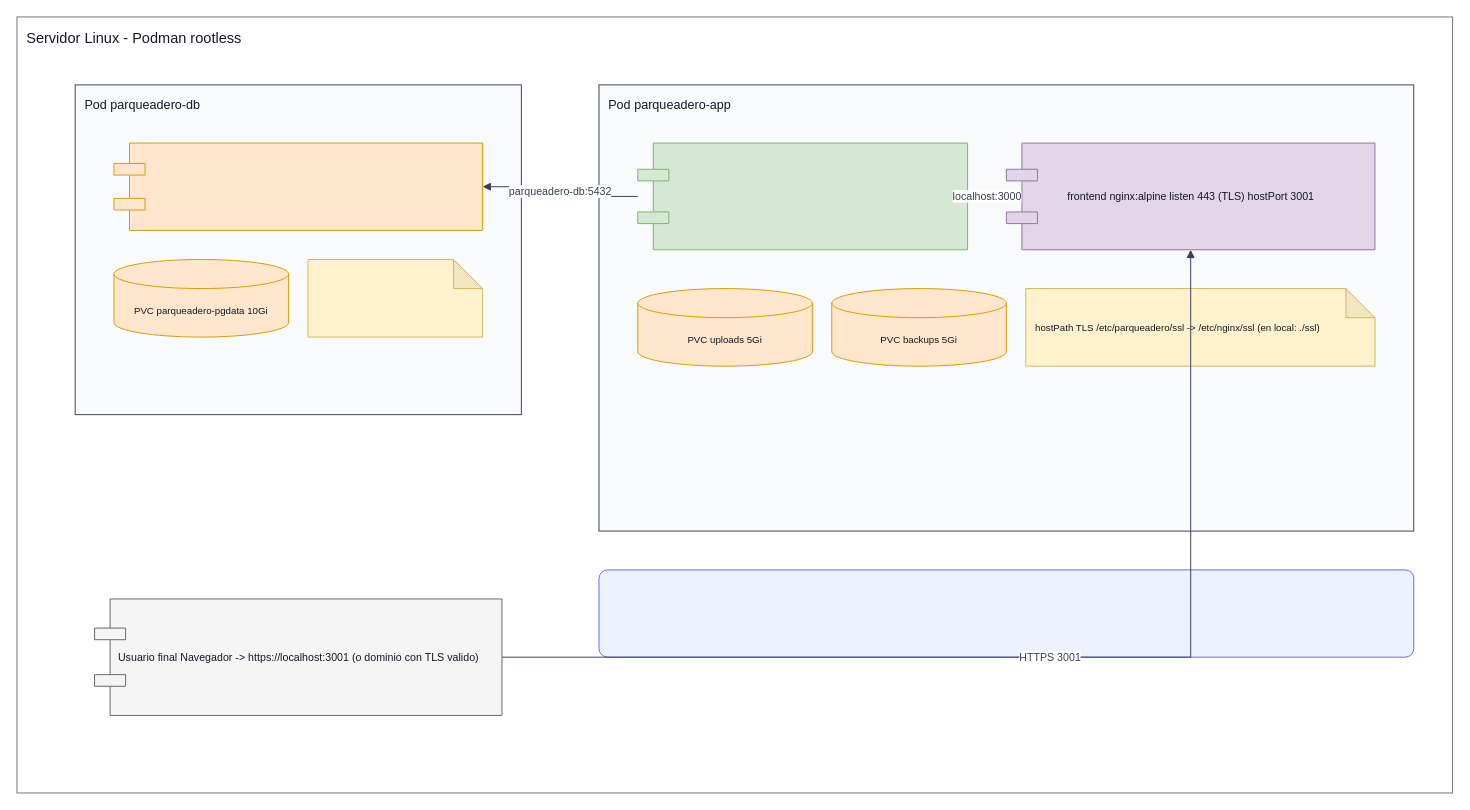
The diagram is 1470 pixels wide and 810 high, and some of its shapes have lost their labels. Each missing label, with the centre of its shape:
backend node:22-alpine CMD node dist/server.js containerPort 3000 (interno): pixel 802 196
postgres:16 POSTGRES_DB=parqueadero (containerPort 5432, interno): pixel 298 186
Red interna parqueadero-net (DNS de podman: parqueadero-db:5432): pixel 1006 613
Secret parqueadero-secrets db_password, jwt, plate, sync: pixel 395 298
